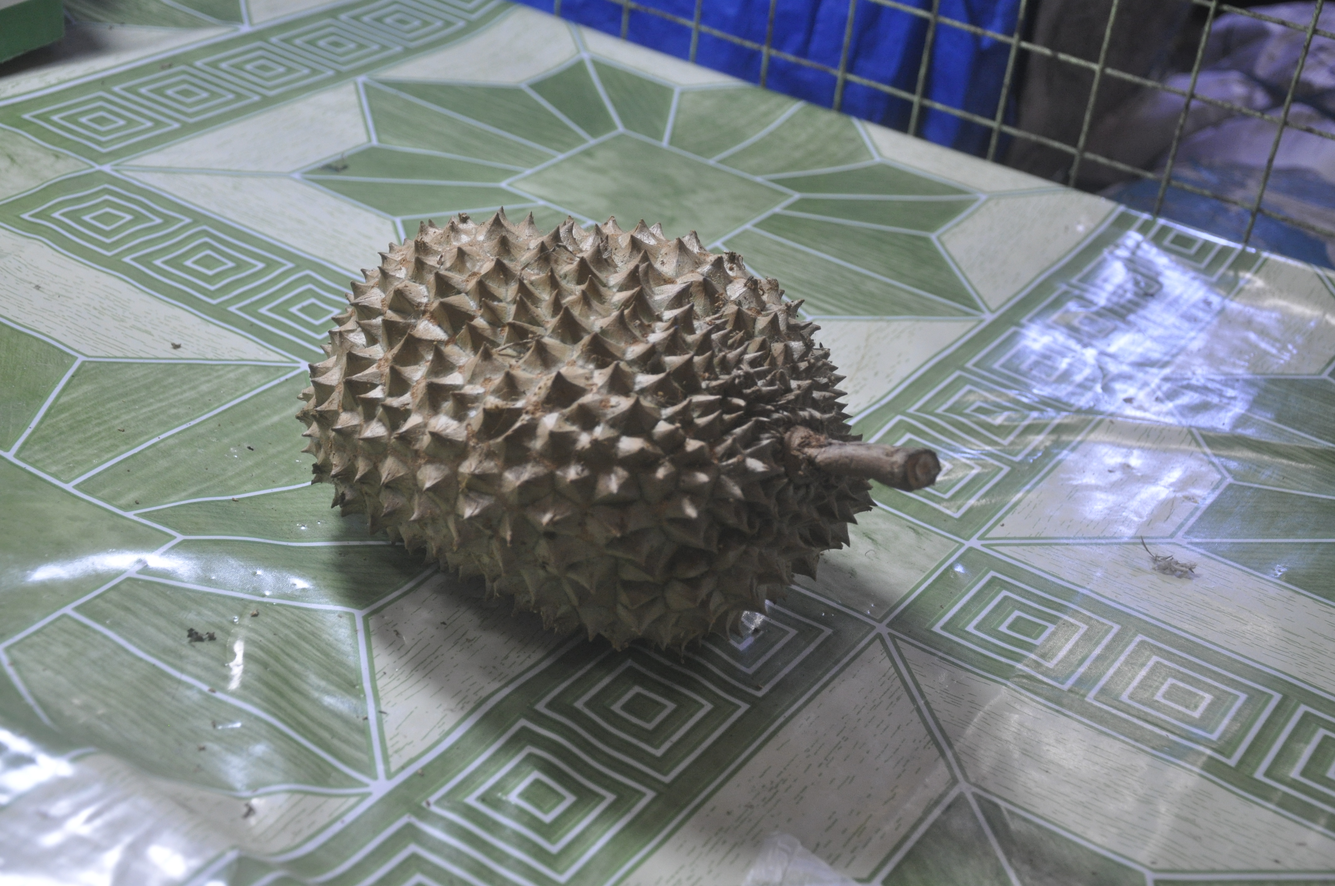mature: (298, 210, 871, 655)
